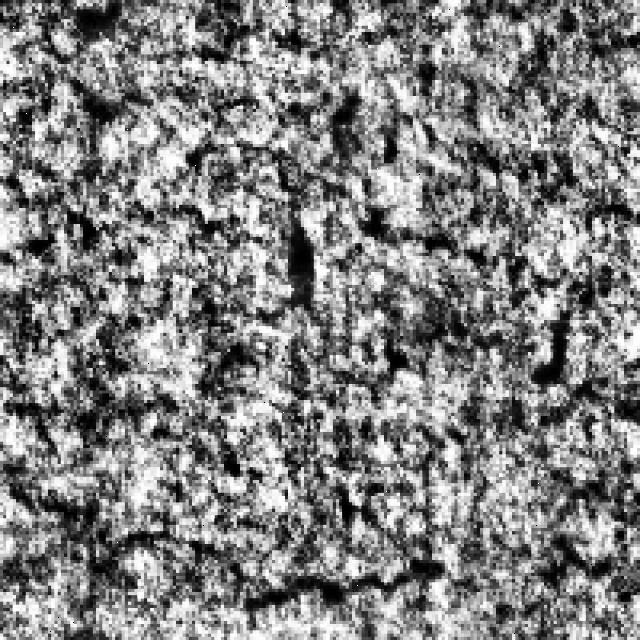Pitted_Surface: (224, 368, 640, 608), (358, 96, 624, 394)
